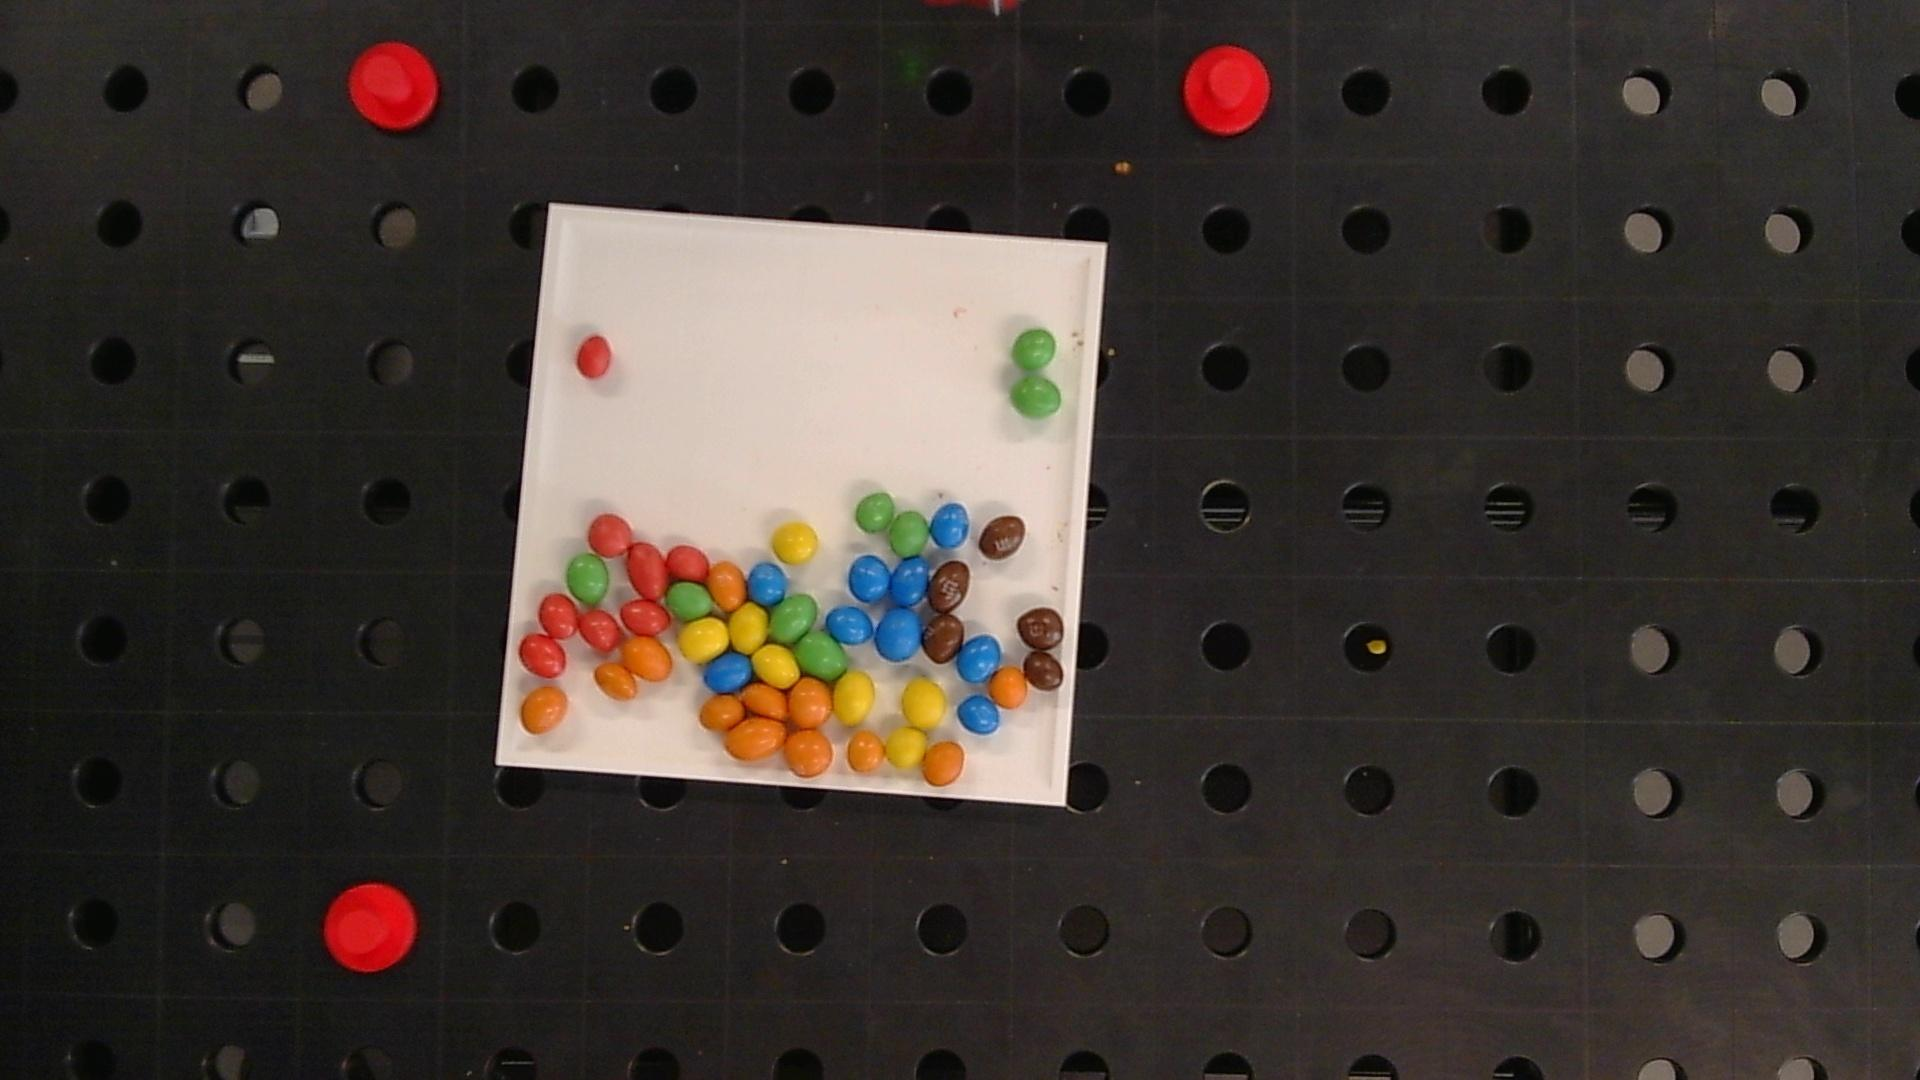blue: (877, 608, 922, 661), (957, 636, 1002, 682), (849, 555, 890, 603), (704, 653, 752, 692), (825, 607, 874, 644), (890, 558, 927, 607), (930, 502, 969, 547), (959, 696, 1000, 735), (748, 563, 786, 604)
brown: (977, 516, 1026, 560), (928, 562, 969, 613), (922, 615, 964, 663), (1017, 607, 1063, 650), (1023, 653, 1064, 690)
green: (796, 632, 847, 679), (770, 595, 818, 642), (566, 554, 609, 604), (1011, 376, 1063, 418), (1011, 328, 1056, 369), (889, 512, 928, 555), (855, 492, 895, 531), (669, 583, 712, 618)
orange: (724, 717, 786, 760), (621, 637, 673, 680), (521, 687, 568, 733), (785, 731, 833, 775), (789, 679, 832, 727), (922, 742, 965, 786), (709, 562, 746, 609), (845, 731, 885, 773), (742, 682, 787, 719), (595, 662, 637, 700), (700, 694, 744, 731), (990, 667, 1027, 708)
red: (628, 542, 669, 600), (518, 634, 567, 678), (588, 513, 633, 556), (621, 599, 670, 634), (539, 593, 578, 638), (578, 611, 620, 650), (575, 336, 612, 378), (667, 545, 709, 580)
yellow: (679, 617, 728, 662), (902, 680, 945, 729), (835, 671, 874, 724), (729, 603, 767, 653), (773, 522, 819, 563), (756, 646, 799, 686), (885, 727, 926, 767)
